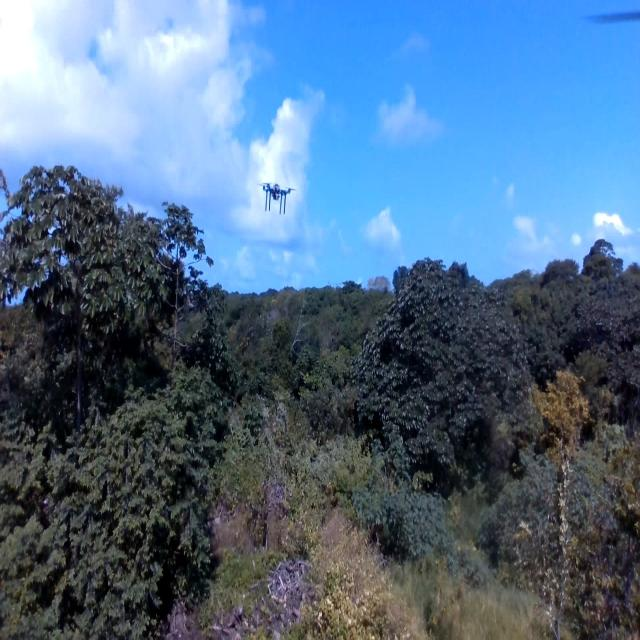-uav-: (252, 166, 300, 228)
